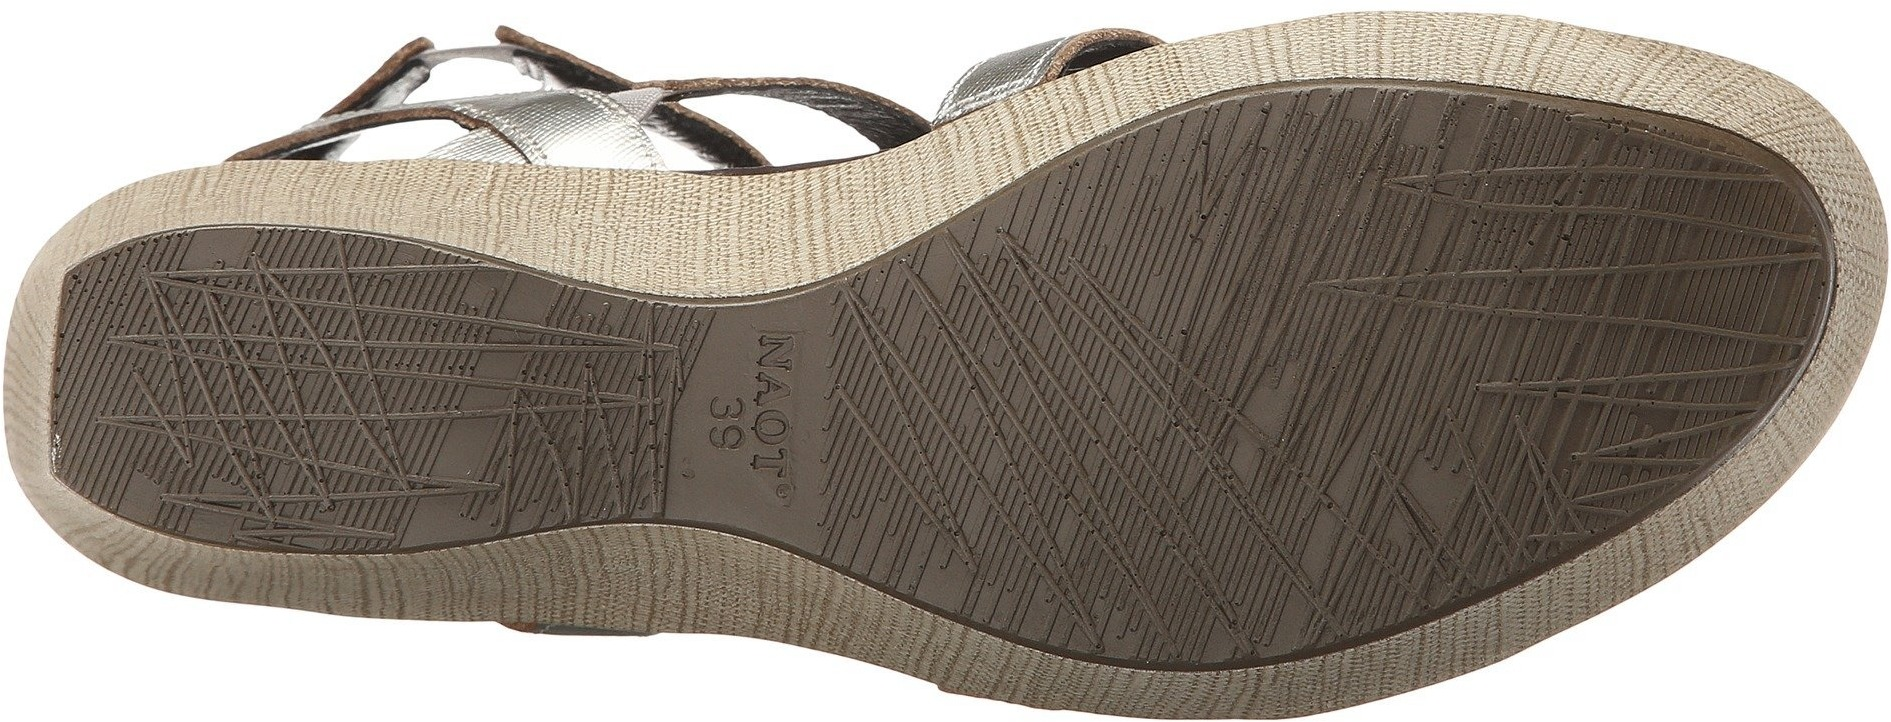chevron: (1309, 137, 1634, 476), (95, 270, 402, 530), (993, 436, 1239, 652), (464, 304, 668, 520), (913, 215, 1187, 319)
circle: (696, 351, 820, 492)
line: (1309, 137, 1634, 476), (95, 270, 402, 530), (993, 436, 1239, 652), (464, 304, 668, 520), (913, 215, 1187, 319)
quad: (95, 270, 402, 530), (464, 304, 668, 520)
text: (696, 351, 820, 492)
